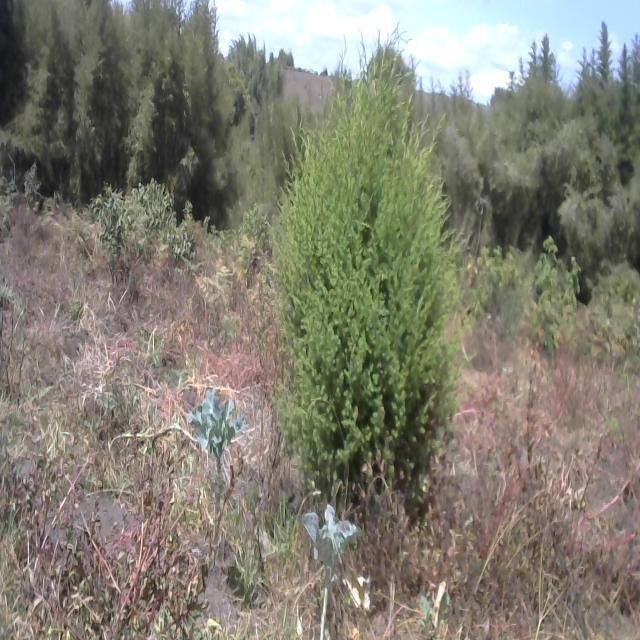Juniperus procesera: (284, 38, 483, 510)
